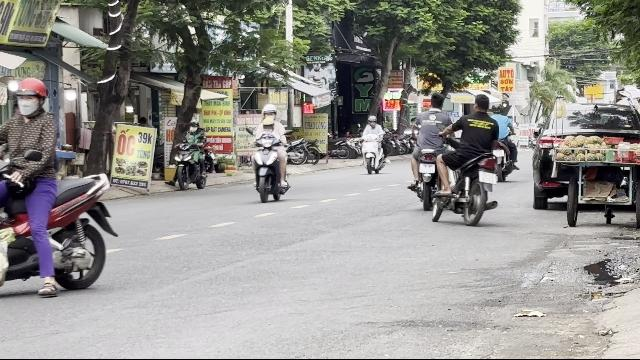helmet: (10, 77, 48, 115), (261, 102, 277, 122), (261, 116, 275, 134)
licenseplate: (479, 172, 497, 184), (419, 164, 435, 172)
motorcyclist: (1, 74, 119, 300), (436, 92, 500, 224), (406, 91, 454, 209), (249, 103, 291, 203)
nohelmet: (472, 92, 490, 112), (428, 92, 444, 110)
